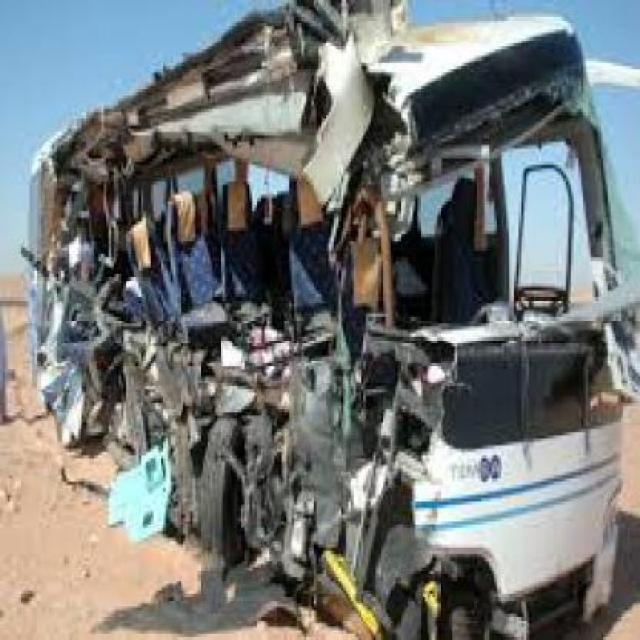accident: (24, 24, 628, 618)
